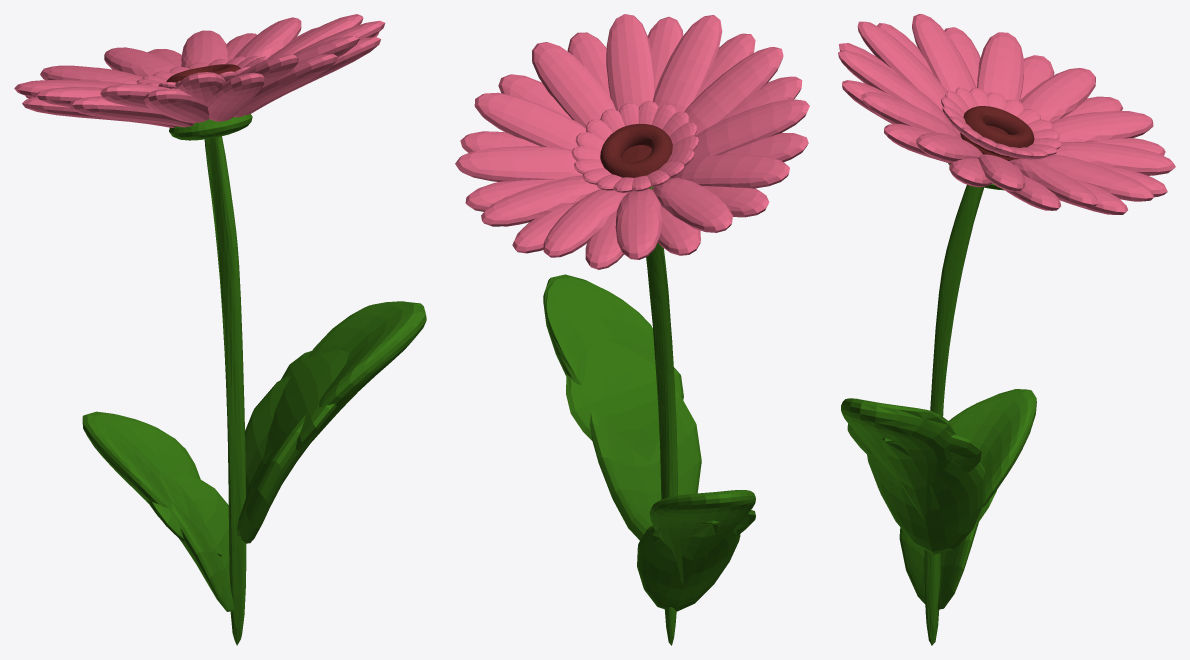
Rendered from Anger_Gerbera.glb.
3 views of the same model, side by side, from view 1: azimuth 30°, elevation 25°; view 2: azimuth 150°, elevation 25°; view 3: azimuth 270°, elevation 25° (orthographic). The views are drawn at different scales.
Parts seen in each view (by area): view 1: Cube.003; view 2: Cube.003; view 3: Cube.003.
Boxes of the visible parts, x1,y1,x2,y2 form: Cube.003: (14, 14, 426, 645); Cube.003: (455, 14, 809, 645); Cube.003: (838, 14, 1175, 645).
Bounding box in the file's own units: 3.24 × 5.9 × 3.03.
